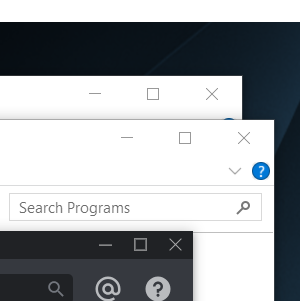close: (193, 77, 233, 109), (225, 123, 263, 153)
